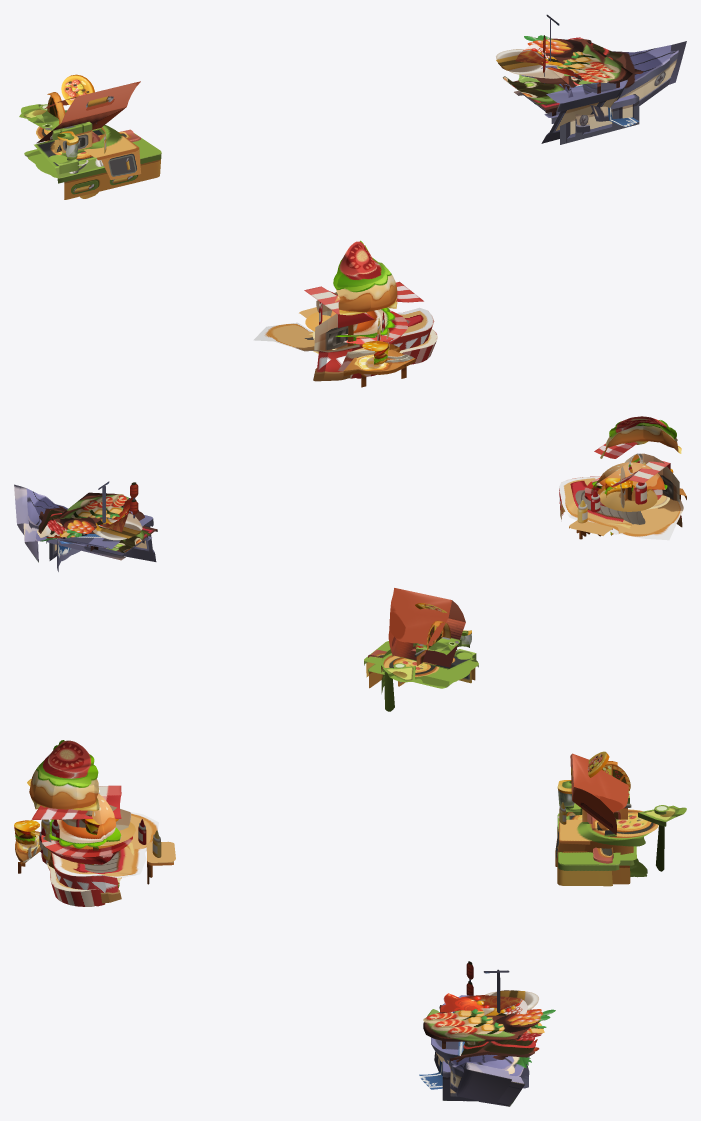
File: tanwei2.fbx
3 renders of one model, top to bottom at view 1: azimuth 30°, elevation 25°; view 2: azimuth 150°, elevation 25°; view 3: azimuth 270°, elevation 25°, orthographic. The views are drawn at different scales.
Visible parts, largest first — view 1: stall_20024, stall_20014, stall_20032, stall_20033, stall_20022, stall_20012, stall_20031, stall_20011, stall_20023, stall_20034, stall_20021, stall_20013; view 2: stall_20024, stall_20012, stall_20032, stall_20033, stall_20014, stall_20021, stall_20011, stall_20034, stall_20031, stall_20013, stall_20022, stall_20023; view 3: stall_20024, stall_20033, stall_20032, stall_20011, stall_20014, stall_20023, stall_20034, stall_20012, stall_20022, stall_20021, stall_20013.
Part boxes in pixels (x1,y1,x2,y2): stall_20024: (253, 240, 434, 381); stall_20014: (27, 74, 161, 199); stall_20032: (521, 14, 632, 143); stall_20033: (496, 37, 686, 132); stall_20022: (304, 286, 415, 387); stall_20012: (34, 81, 140, 199); stall_20031: (503, 74, 639, 144); stall_20011: (19, 104, 141, 179); stall_20023: (309, 295, 437, 378); stall_20034: (515, 35, 638, 126); stall_20021: (305, 301, 408, 352); stall_20013: (24, 92, 98, 198); stall_20024: (559, 416, 683, 540); stall_20012: (388, 588, 477, 686); stall_20032: (52, 481, 156, 571); stall_20033: (14, 484, 144, 540); stall_20014: (364, 603, 478, 682); stall_20021: (584, 462, 662, 511); stall_20011: (381, 649, 439, 711); stall_20034: (23, 482, 138, 562); stall_20031: (46, 526, 157, 560); stall_20013: (368, 620, 470, 688); stall_20022: (611, 453, 686, 509); stall_20023: (562, 462, 667, 535); stall_20024: (27, 740, 175, 903); stall_20033: (448, 990, 546, 1103); stall_20032: (423, 969, 555, 1088); stall_20011: (555, 802, 686, 877); stall_20014: (557, 751, 620, 886); stall_20023: (39, 793, 133, 906); stall_20034: (419, 961, 539, 1106); stall_20012: (567, 753, 628, 836); stall_20022: (14, 785, 121, 873); stall_20021: (41, 819, 135, 868); stall_20013: (558, 761, 636, 884).
Bounding box in the file's own units: 15.69 × 3.26 × 15.29.
